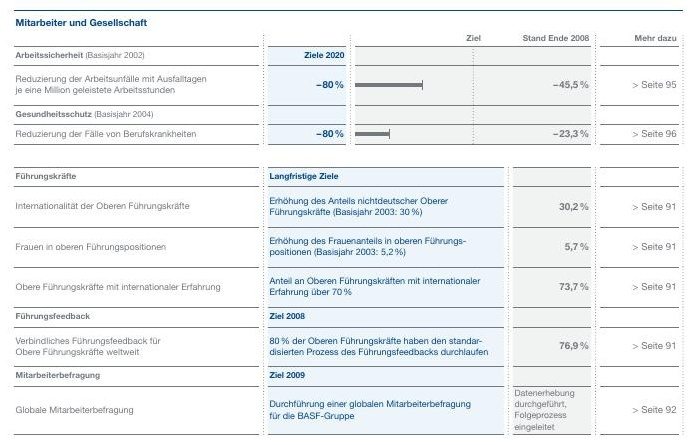table: (0, 0, 693, 445)
